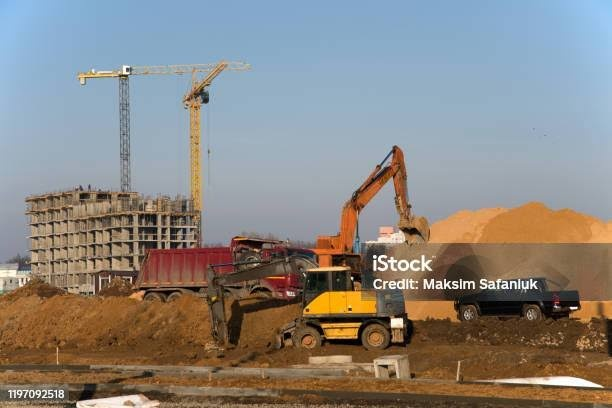crane: (62, 45, 169, 214), (177, 58, 245, 239)
excavator: (278, 153, 466, 276)
machinery: (292, 264, 410, 355), (443, 265, 592, 333)
truck: (102, 227, 315, 307)
